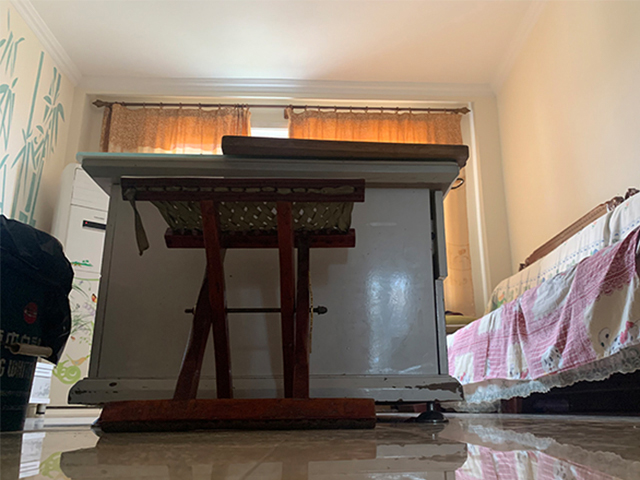sofa: (445, 187, 640, 416)
stool: (91, 174, 378, 429)
table: (66, 150, 465, 425)
